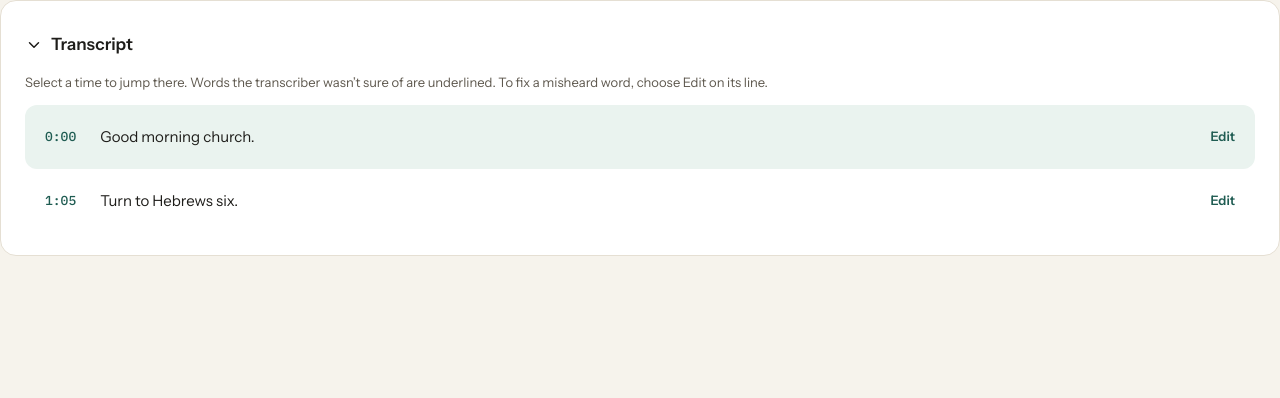
Test: TranscriptPanel › editing a line › keeps the editor open and says why when saving fails
The image size is (1280, 398).
Click the button with aria-label "Edit the line at 0:00": (1223,136) [1202,114,1243,158]
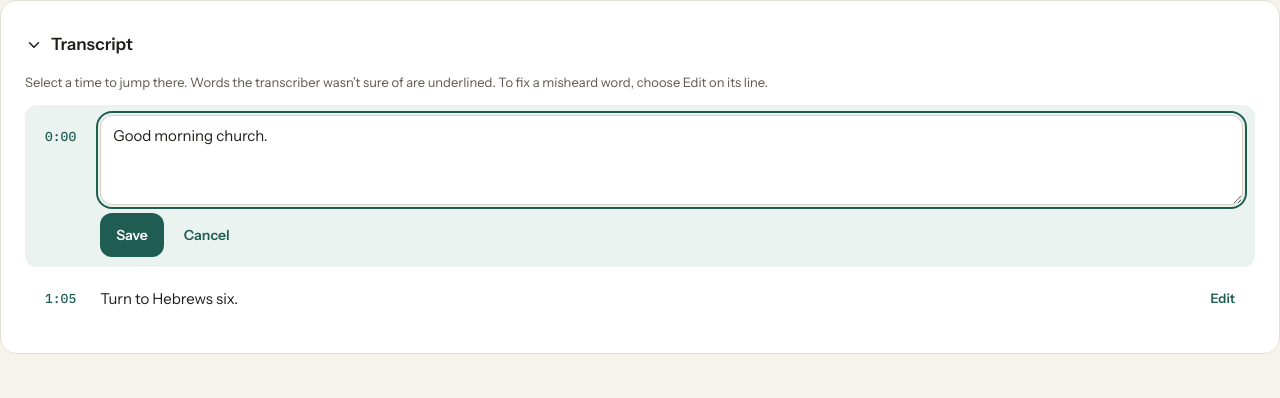
Click the button "Save": (132,234) [100,212,164,256]
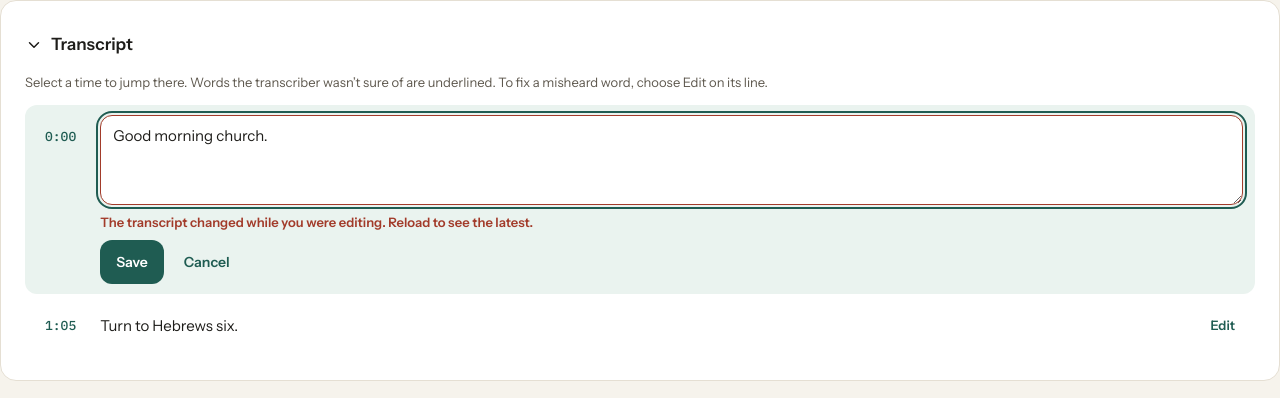
Expected: the text box is shown, [100,114,1243,204]
Expected: the message shows "changed while you were editing", [100,214,533,230]
